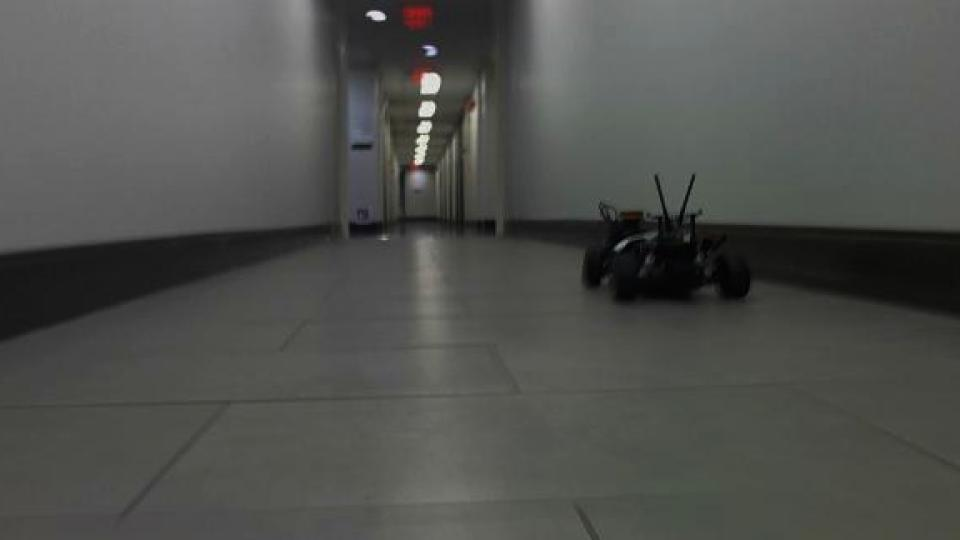car: (577, 170, 753, 307)
